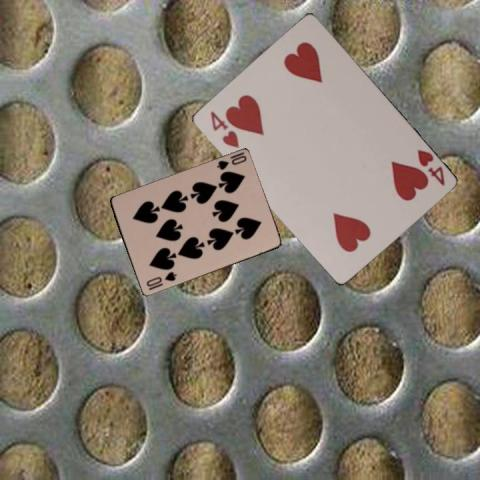10s: (213, 153, 248, 171), (144, 269, 177, 288)
4h: (207, 108, 240, 149), (414, 146, 446, 187)
